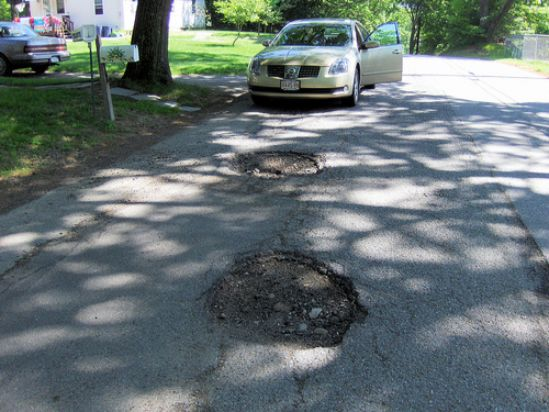pothole: (196, 247, 373, 351), (228, 146, 326, 183)
